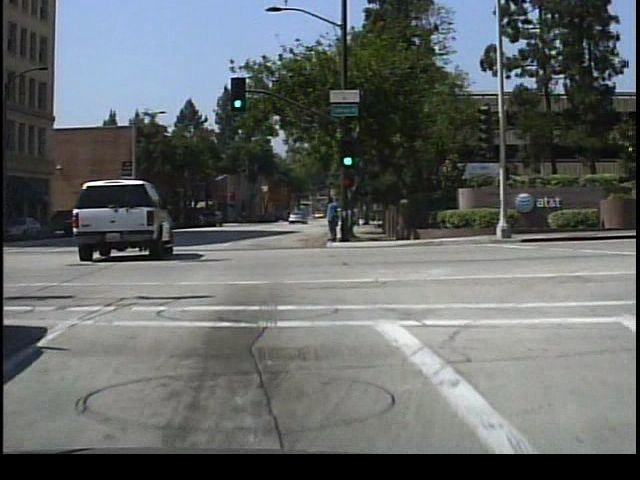person: (321, 189, 342, 243), (329, 194, 346, 240)
